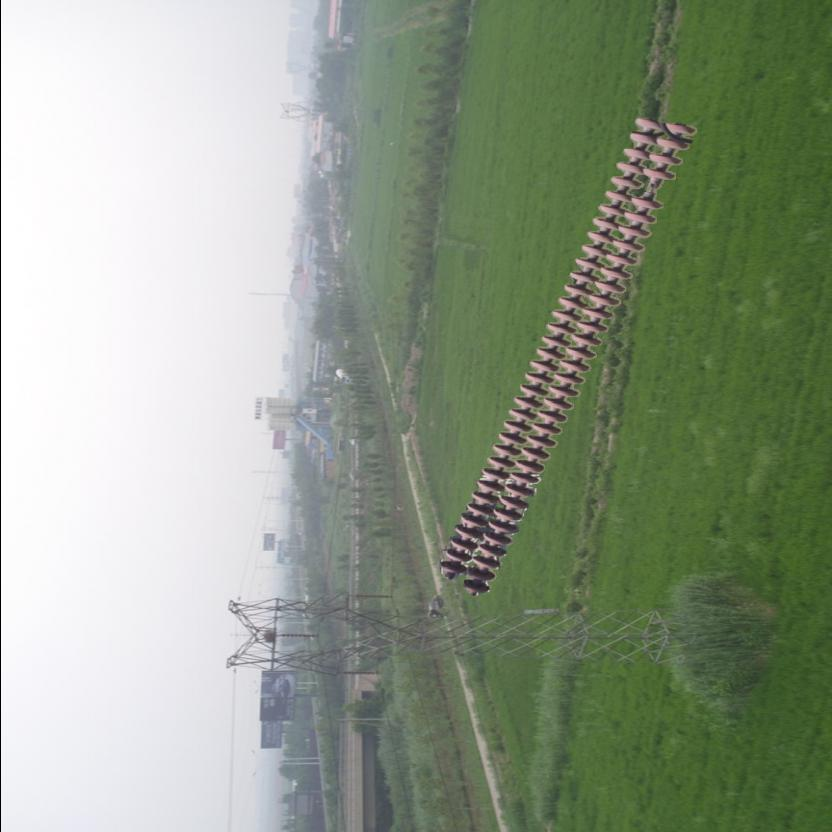defect: (624, 164, 675, 212)
